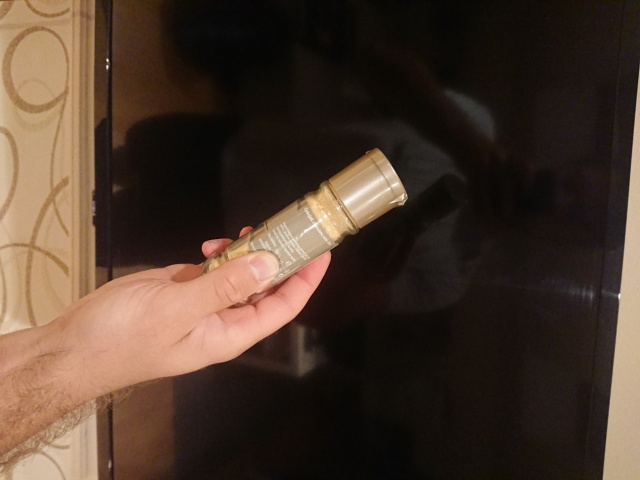Kotanyi Garlic Granules 70g: (199, 143, 411, 310)
